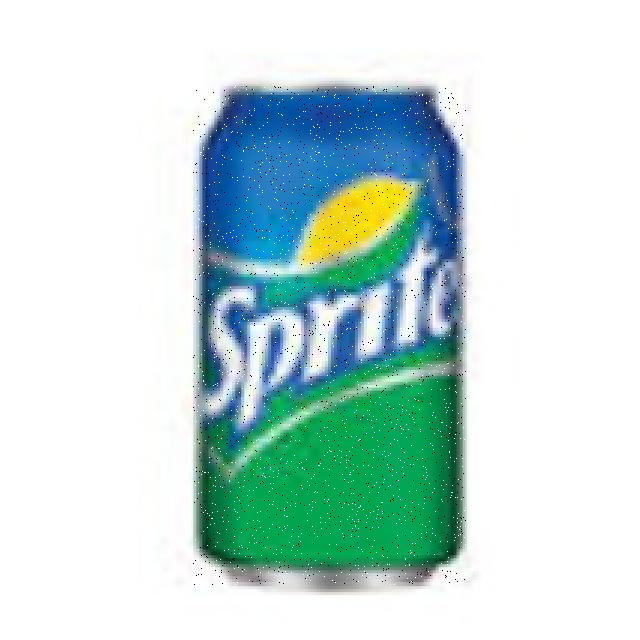metal: (194, 87, 466, 585)
